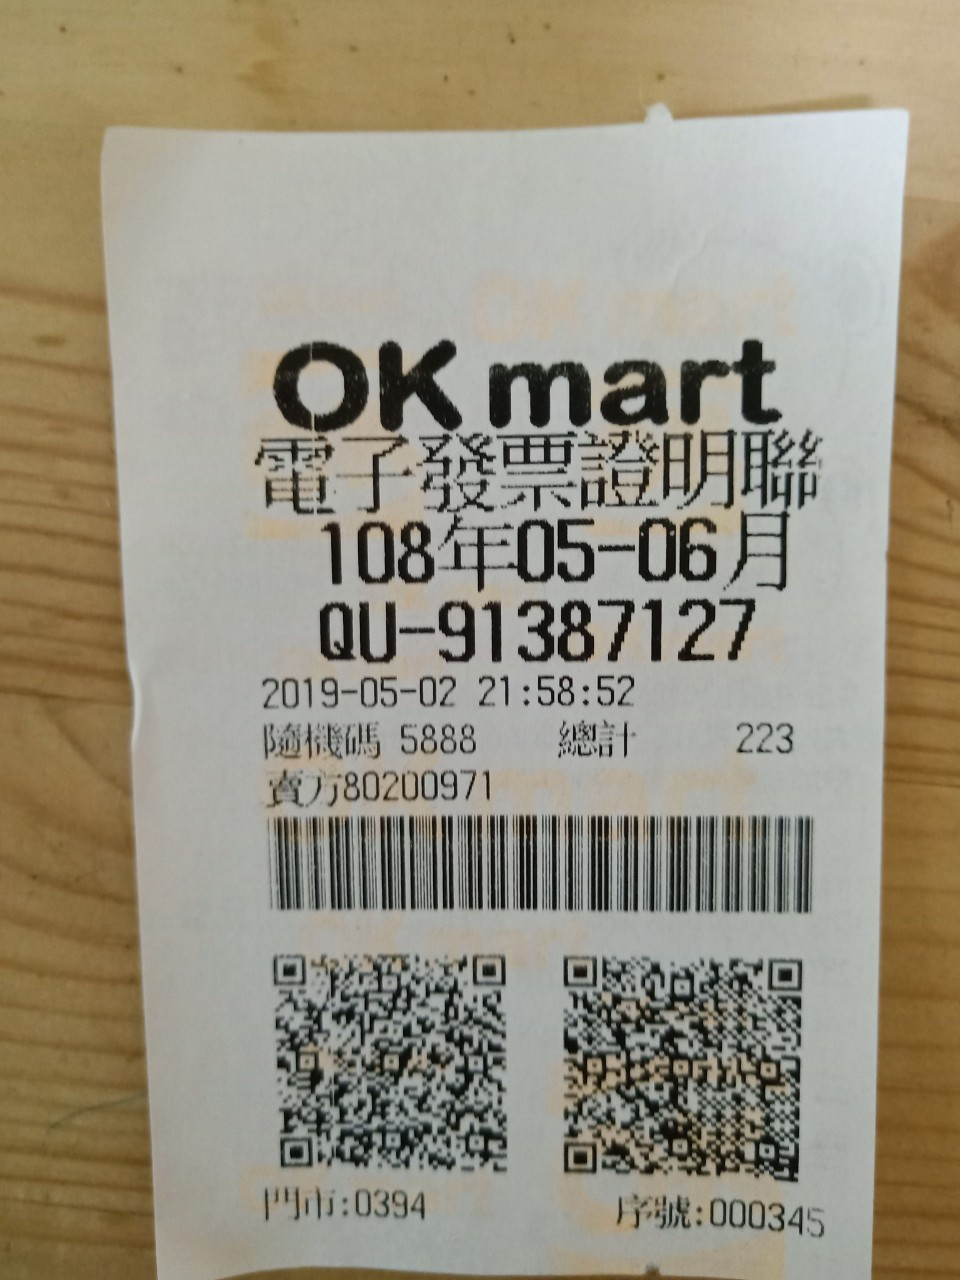Date_New: (316, 507, 789, 593)
Number_New: (436, 598, 758, 663)
